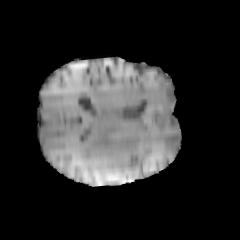glioma: (75, 125, 143, 176)
